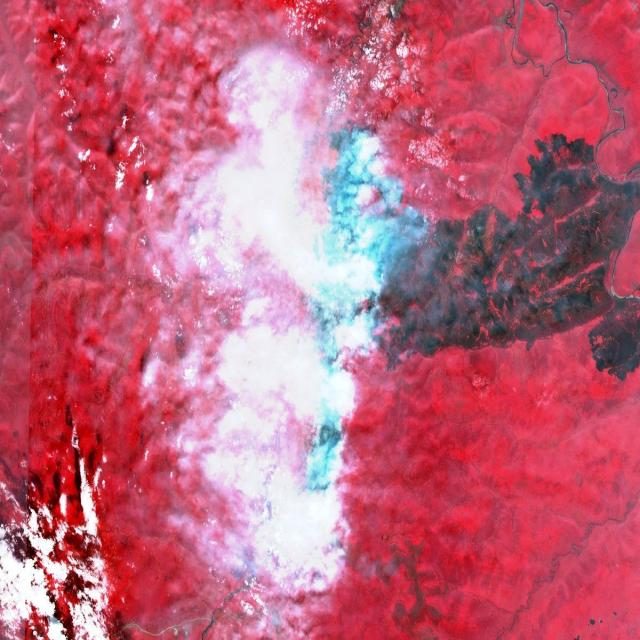fire: (304, 117, 427, 498)
